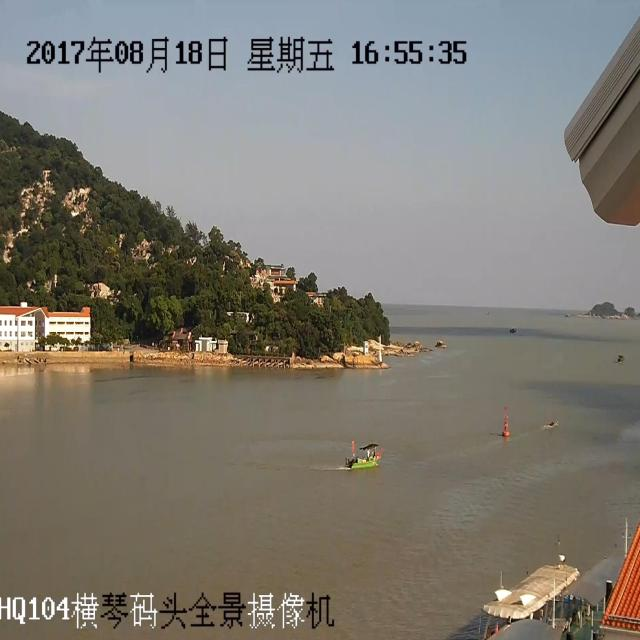buoy: (494, 398, 520, 442)
fishing boat: (336, 426, 390, 478)
reef: (574, 283, 640, 322)
